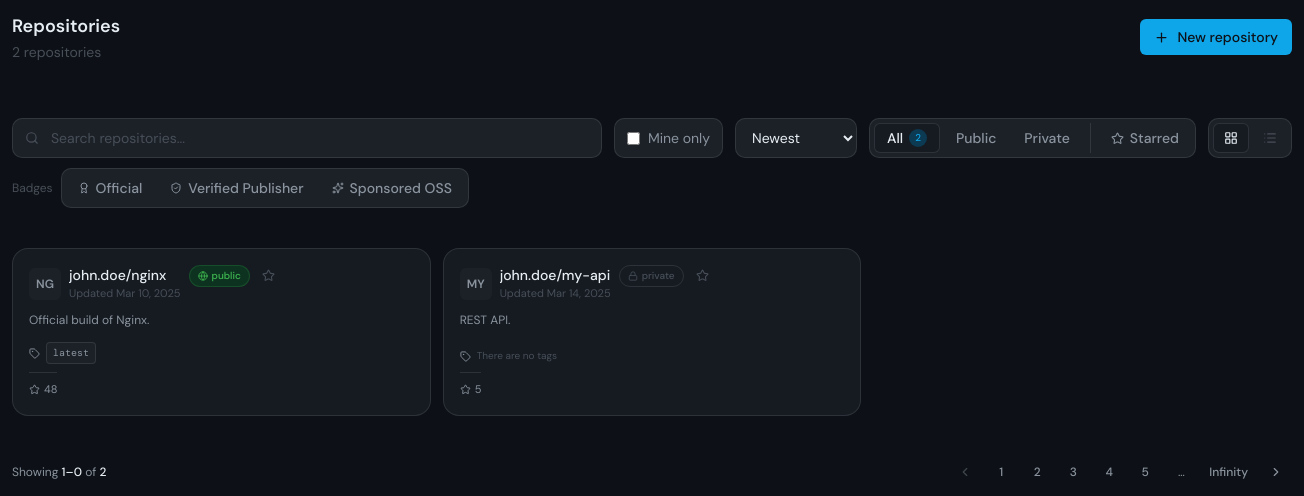
Test: RepositoriesPage › prebacuje nazad na grid prikaz
Click the button named "Table view". click: (1270, 138)
box: [1253,123,1287,153]
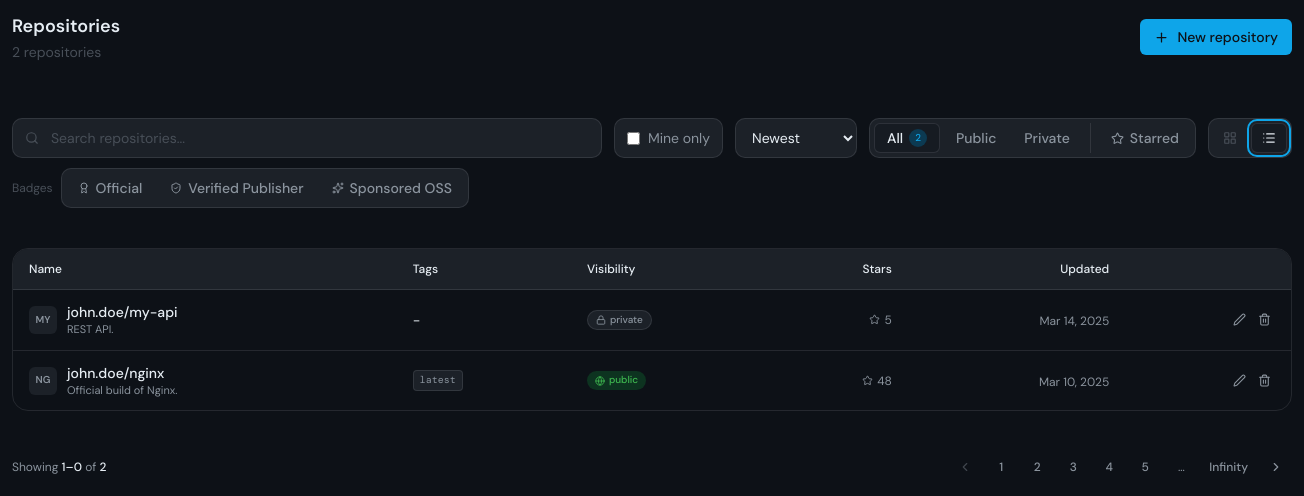
Click the button named "Grid view". click: (1230, 138)
box: [1213,123,1247,153]
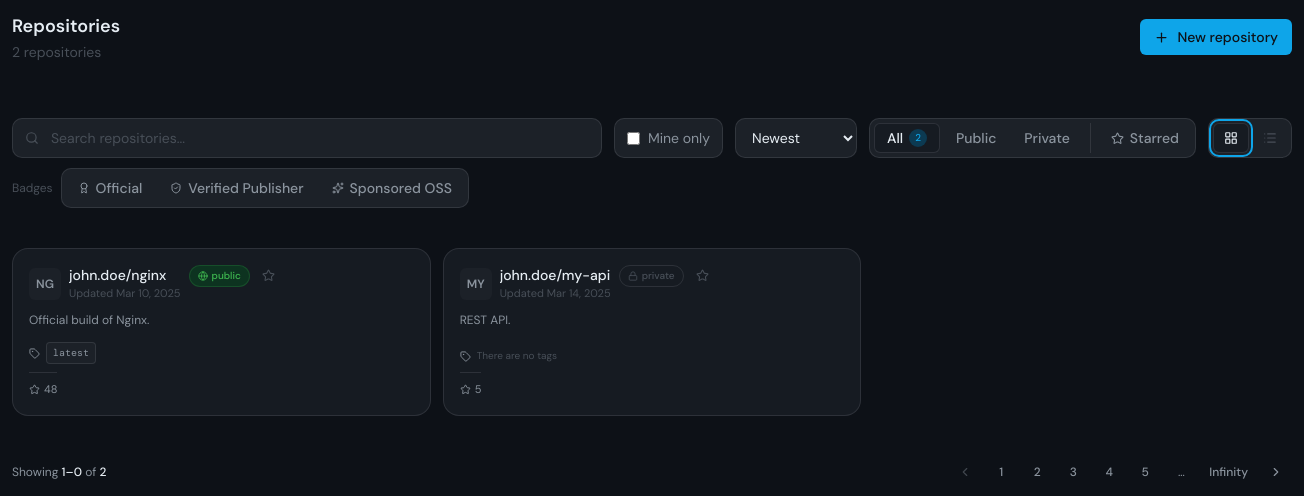
Now the text "Stars" is gone
